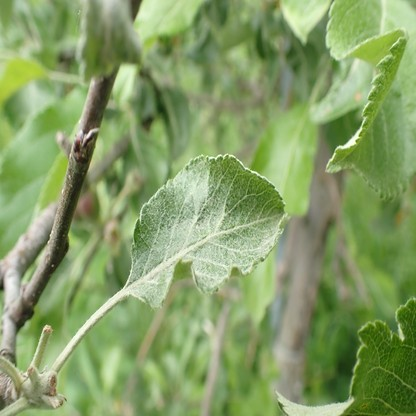powdery_mildew: (126, 155, 287, 309), (325, 0, 415, 199), (274, 390, 354, 416)
